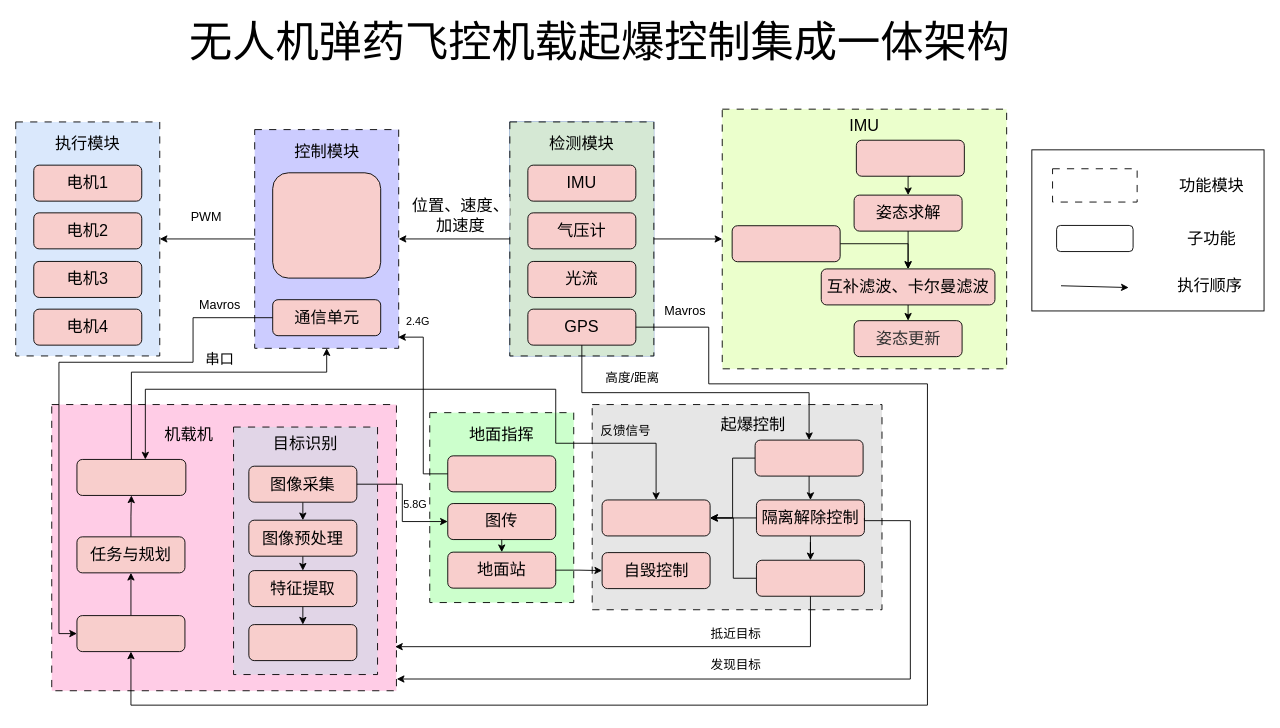
The diagram is 1280 pixels wide and 728 high, and some of its shapes have lost their labels. Each missing label, with the box of its shape:
ROS/stm32: (76, 615, 185, 652)
决策与指令: (76, 459, 186, 495)
加速度: (855, 139, 964, 176)
安全逻辑控制: (754, 439, 863, 476)
状态反馈控制: (601, 499, 710, 536)
获取位置信息: (248, 624, 357, 661)
起爆指令控制: (756, 559, 864, 596)
遥控器: (447, 455, 556, 492)
陀螺仪: (731, 225, 840, 262)
飞行控制器: (272, 172, 381, 278)
